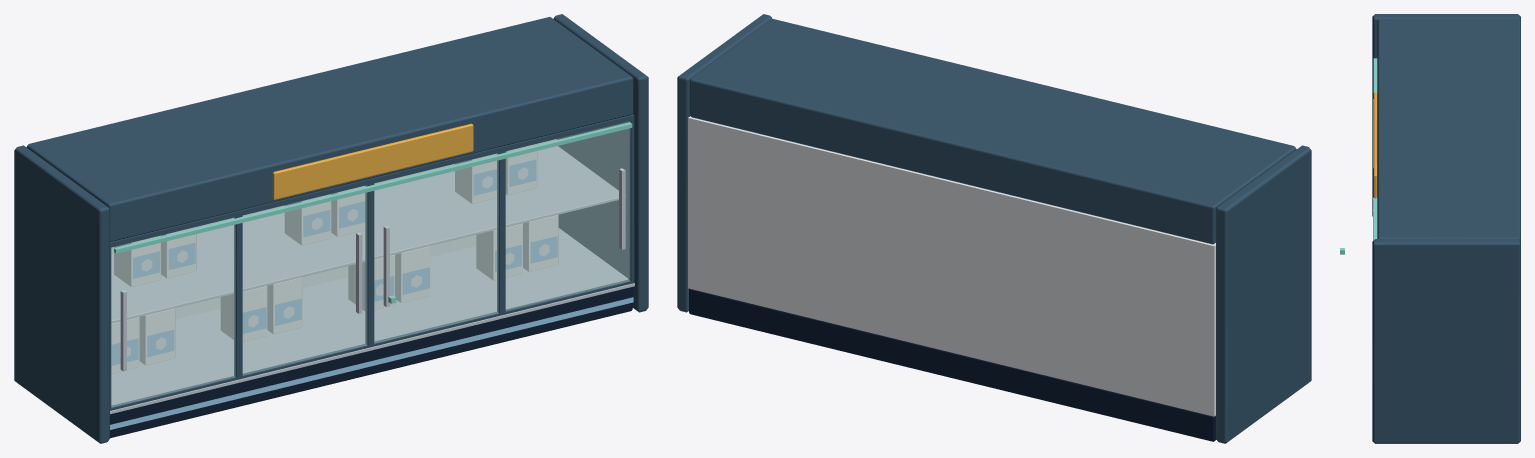
The model's file is CM_Fixture_DairyFridge.fbx.
3 renders of one model, left to right at view 1: azimuth 30°, elevation 25°; view 2: azimuth 150°, elevation 25°; view 3: azimuth 270°, elevation 25°, orthographic. The views are drawn at different scales.
Parts seen in each view (by area): view 1: Body, Glass, PriceTag, Item2, Item4, LightStrip, Item5, Item6, Item3, Item1, Item7; view 2: Body; view 3: Body, PriceTag, LightStrip.
Boxes of the visible parts, bbox=[...] form: Body: bbox=[14, 14, 648, 443]; Glass: bbox=[111, 121, 630, 407]; PriceTag: bbox=[272, 123, 473, 199]; Item2: bbox=[220, 277, 302, 341]; Item4: bbox=[476, 215, 558, 280]; LightStrip: bbox=[114, 122, 632, 253]; Item5: bbox=[114, 227, 196, 287]; Item6: bbox=[284, 186, 365, 245]; Item3: bbox=[348, 246, 430, 310]; Item1: bbox=[111, 308, 175, 373]; Item7: bbox=[455, 144, 537, 204]; Body: bbox=[677, 14, 1311, 443]; Body: bbox=[1372, 14, 1520, 443]; PriceTag: bbox=[1373, 92, 1377, 198]; LightStrip: bbox=[1373, 58, 1377, 239].
Bounding box in the file's own units: 22 × 7.3 × 9.
Materials: 2 (2 with a texture image).
